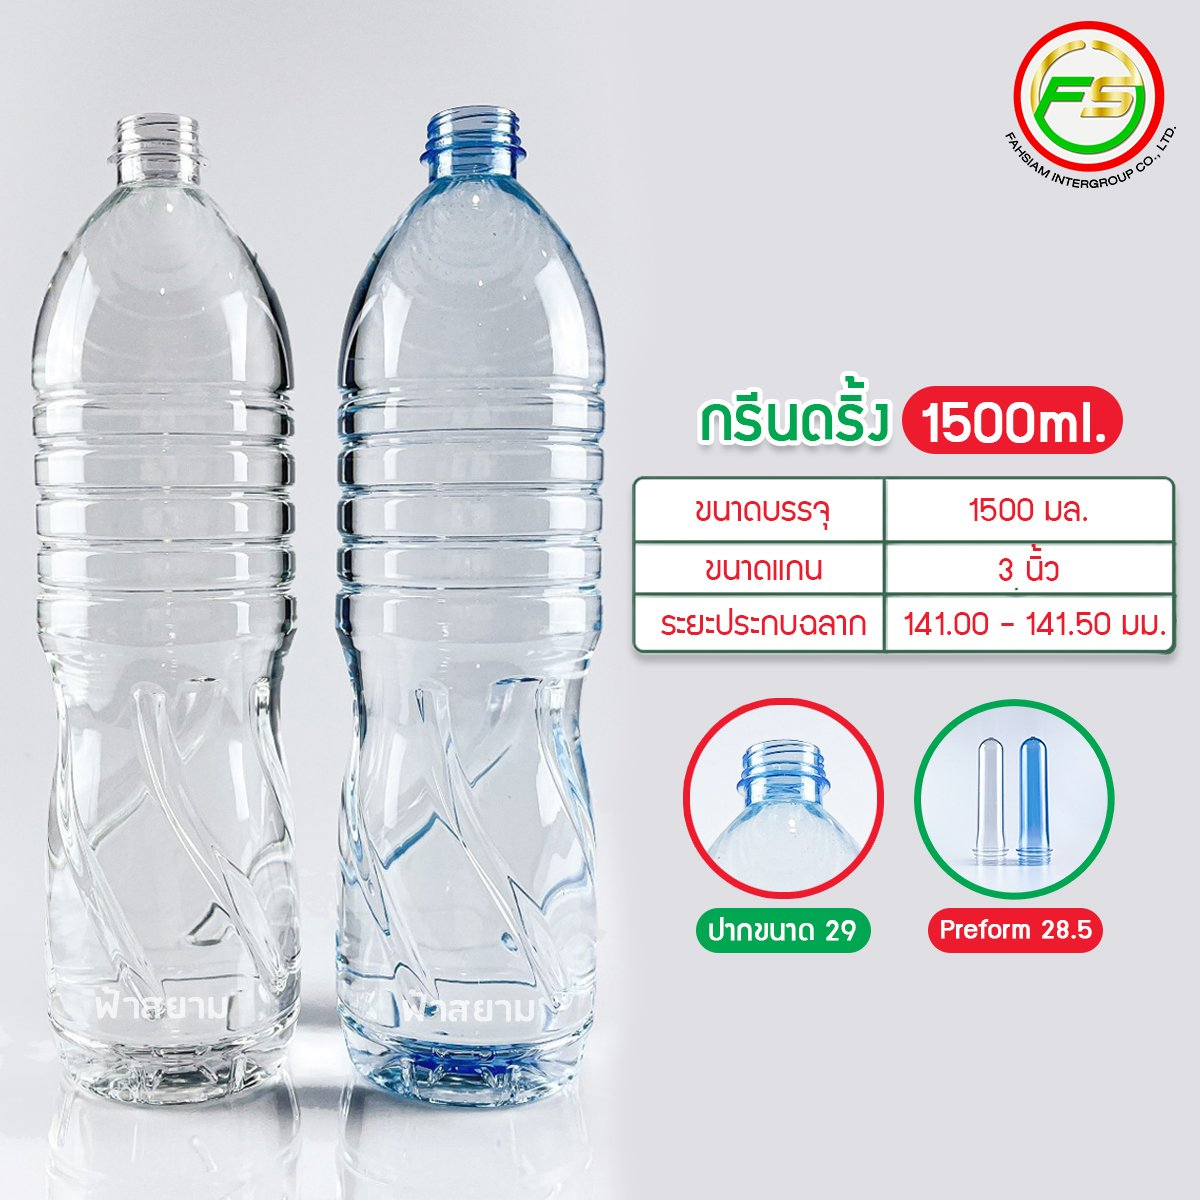plastic_bottle: (332, 82, 614, 1127), (26, 108, 318, 1109)
